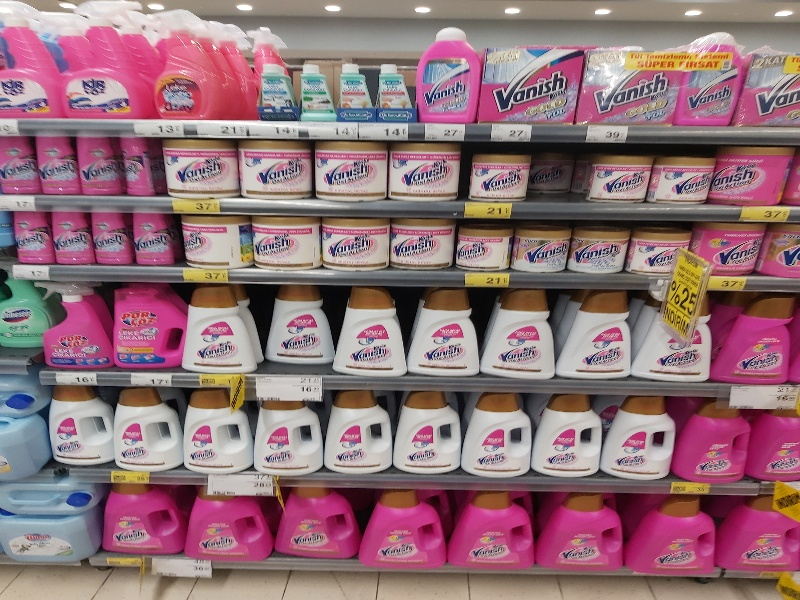urun1: (477, 37, 588, 127), (578, 39, 685, 129), (178, 377, 251, 474), (253, 379, 326, 476), (460, 389, 533, 486), (528, 388, 601, 485), (357, 489, 445, 564), (449, 491, 537, 566), (712, 492, 800, 567), (183, 478, 267, 556), (112, 378, 183, 469), (605, 388, 673, 483), (685, 26, 746, 131), (34, 278, 107, 364), (109, 277, 182, 363), (258, 282, 331, 368), (406, 286, 479, 372), (42, 378, 107, 466), (156, 135, 240, 199), (309, 137, 390, 198), (308, 135, 389, 196), (748, 398, 800, 485), (247, 214, 324, 268), (388, 141, 463, 196), (465, 145, 540, 200), (579, 150, 650, 200), (646, 151, 717, 201), (246, 55, 293, 125), (291, 52, 338, 122), (33, 131, 79, 196), (77, 133, 123, 198), (129, 208, 174, 269), (451, 226, 516, 268), (510, 227, 575, 269), (329, 57, 368, 123), (370, 57, 409, 123), (1, 131, 39, 192)
urun2: (139, 1, 226, 115), (39, 1, 126, 113), (319, 379, 392, 476), (389, 386, 462, 483), (715, 293, 791, 381), (635, 293, 711, 381), (417, 25, 482, 127), (536, 490, 624, 565), (628, 494, 716, 569), (99, 480, 183, 558), (273, 483, 357, 561), (184, 281, 257, 367), (333, 284, 406, 370), (480, 291, 553, 377), (564, 291, 637, 377), (679, 397, 746, 483), (234, 134, 316, 195), (711, 141, 783, 201), (175, 211, 249, 268), (319, 217, 396, 271), (694, 219, 764, 275), (387, 215, 457, 267), (113, 136, 158, 201), (571, 227, 631, 274), (627, 229, 694, 270), (48, 204, 93, 265), (86, 206, 131, 267), (7, 210, 55, 265)
